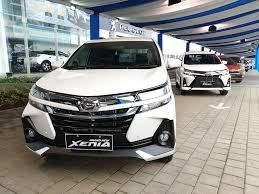mobil: (23, 36, 178, 164), (176, 48, 233, 97)
